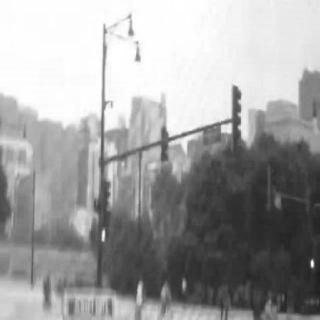other: (304, 250, 316, 276)
